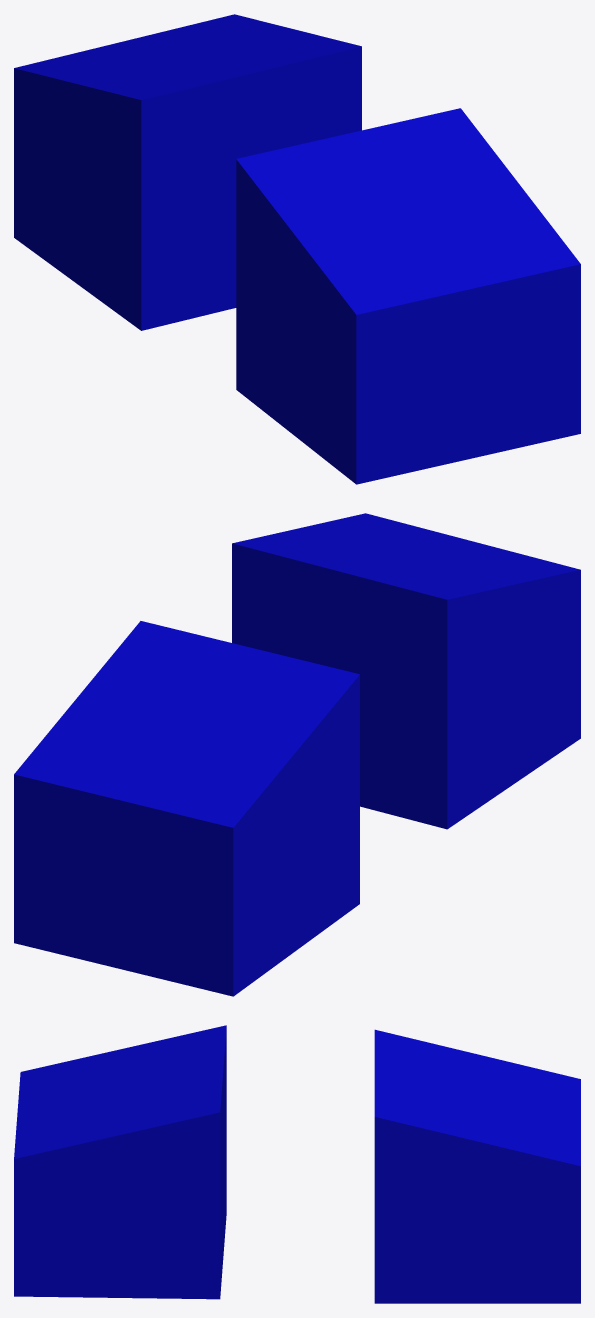
Rendered from map6.obj.
The picture shows the model from 3 angles, top to bottom: view 1: azimuth 30°, elevation 25°; view 2: azimuth 150°, elevation 25°; view 3: azimuth 270°, elevation 25°; orthographic projection. The views are drawn at different scales.
Visible parts, largest first — view 1: Cube.005_Cube.006, Cube.004_Cube.005; view 2: Cube.004_Cube.005, Cube.005_Cube.006; view 3: Cube.005_Cube.006, Cube.004_Cube.005.
Part boxes in pixels (x1,y1,x2,y2): Cube.005_Cube.006: (236, 108, 580, 484); Cube.004_Cube.005: (14, 14, 361, 330); Cube.004_Cube.005: (14, 621, 359, 996); Cube.005_Cube.006: (232, 513, 580, 829); Cube.005_Cube.006: (14, 1025, 226, 1299); Cube.004_Cube.005: (374, 1029, 580, 1303).
Size of the model in its own units: 91.72 by 91.68 by 244.
